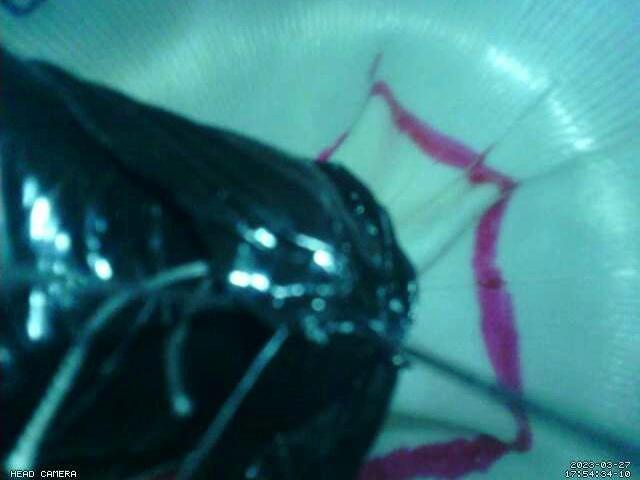red-circle: (317, 79, 534, 477)
